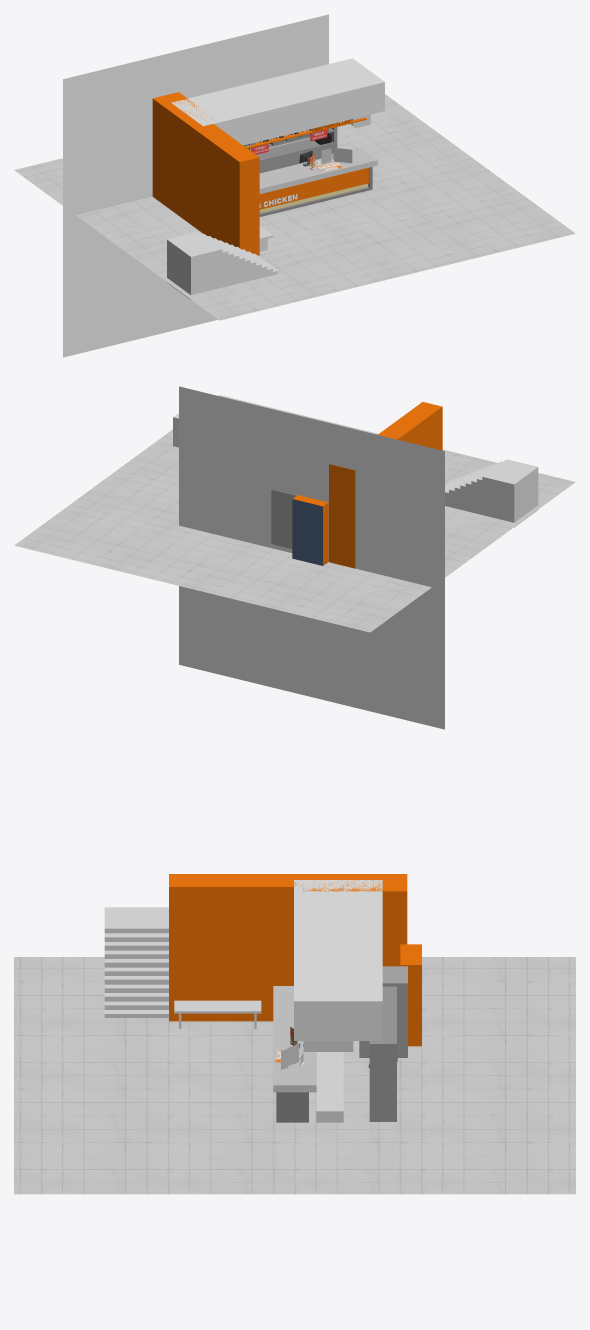
File: ToxosChiken.fbx
3 renders of one model, top to bottom at view 1: azimuth 30°, elevation 25°; view 2: azimuth 150°, elevation 25°; view 3: azimuth 270°, elevation 25°, orthographic. The views are drawn at different scales.
Visible parts, largest first — view 1: Plane.004, Plane.027, Cube.031, Cube.008, Cube.045, Cube.005, Cube.043, Cube.013; view 2: Plane.027, Plane.004, Cube.031, Cube.045, Cube.039, Cube.036; view 3: Plane.004, Cube.031, Cube.008, Cube.045, Cube.005, Cube.013, Cube.030, Cube.039, Cube.036, Cube.047.
Boxes of the visible parts, left/top/right/bottom form: Plane.004: left=14, top=94, right=575, bottom=320; Plane.027: left=63, top=14, right=328, bottom=357; Cube.031: left=152, top=92, right=259, bottom=255; Cube.008: left=171, top=58, right=384, bottom=145; Cube.045: left=167, top=231, right=278, bottom=299; Cube.005: left=259, top=148, right=377, bottom=216; Cube.043: left=259, top=167, right=369, bottom=213; Cube.013: left=251, top=122, right=337, bottom=173; Plane.027: left=179, top=386, right=444, bottom=729; Plane.004: left=14, top=395, right=575, bottom=632; Cube.031: left=329, top=402, right=442, bottom=568; Cube.045: left=445, top=459, right=538, bottom=527; Cube.039: left=292, top=495, right=328, bottom=565; Cube.036: left=271, top=489, right=296, bottom=548; Plane.004: left=14, top=957, right=575, bottom=1194; Cube.031: left=169, top=874, right=407, bottom=1021; Cube.008: left=294, top=880, right=382, bottom=1040; Cube.045: left=104, top=907, right=168, bottom=1017; Cube.005: left=273, top=986, right=316, bottom=1122; Cube.013: left=369, top=986, right=396, bottom=1121; Cube.030: left=316, top=1052, right=343, bottom=1122; Cube.039: left=400, top=944, right=421, bottom=1046; Cube.036: left=359, top=966, right=407, bottom=1057; Cube.047: left=174, top=1000, right=261, bottom=1013.
Size of the model in its own units: 4232 by 3051 by 4086.
